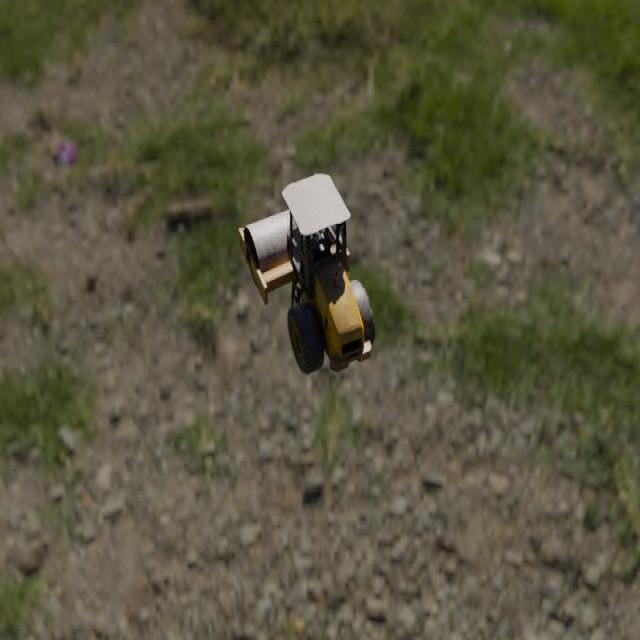Roller: (237, 173, 375, 375)
